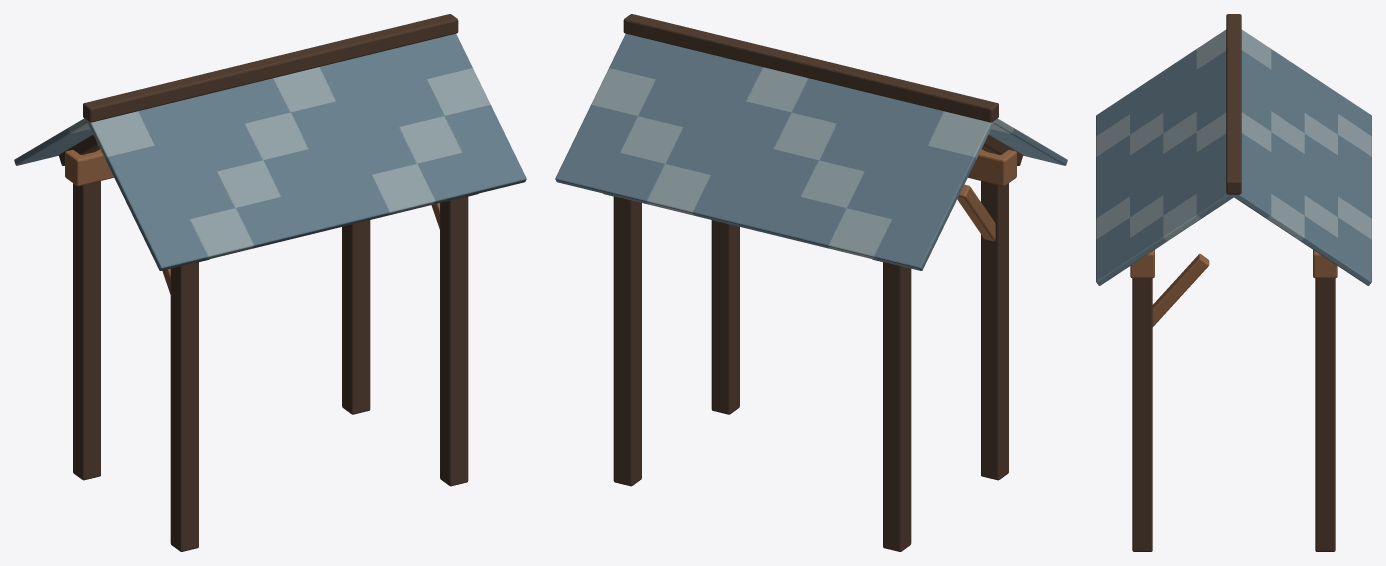
File: watch_shelter.glb
3 renders of one model, left to right at view 1: azimuth 30°, elevation 25°; view 2: azimuth 150°, elevation 25°; view 3: azimuth 270°, elevation 25°, orthographic. The views are drawn at different scales.
Visible parts, largest first — view 1: watch_shelter__finish, watch_shelter__structure; view 2: watch_shelter__finish, watch_shelter__structure; view 3: watch_shelter__finish, watch_shelter__structure.
Part boxes in pixels (left/top/right/bottom): watch_shelter__finish: left=14, top=33, right=526, bottom=270; watch_shelter__structure: left=58, top=14, right=478, bottom=551; watch_shelter__finish: left=555, top=33, right=1067, bottom=270; watch_shelter__structure: left=603, top=14, right=1023, bottom=551; watch_shelter__finish: left=1096, top=29, right=1371, bottom=285; watch_shelter__structure: left=1130, top=14, right=1337, bottom=551.
Bounding box in the file's own units: 2.74 × 2.96 × 1.9.
